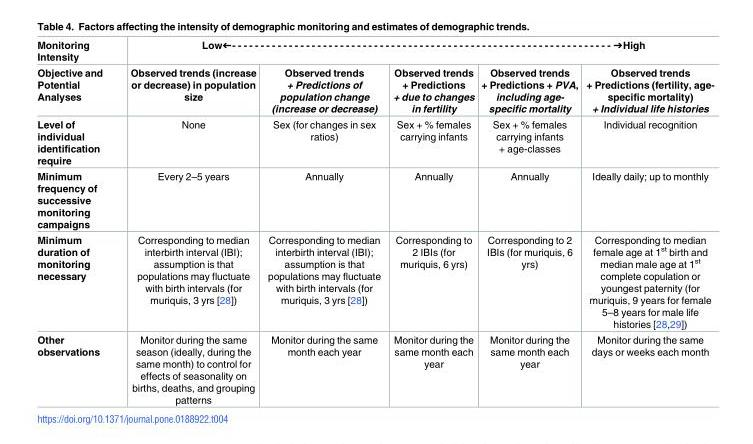table: (36, 37, 713, 404)
table column: (115, 37, 261, 404), (581, 37, 713, 404), (261, 37, 386, 404), (477, 37, 581, 404), (386, 37, 477, 404), (36, 37, 115, 404)
table column header: (36, 37, 713, 116)
table row: (36, 232, 713, 332), (36, 332, 713, 404), (36, 168, 713, 232), (36, 64, 713, 116), (36, 116, 713, 168), (36, 37, 713, 64)
table spanning cell: (115, 37, 713, 64), (36, 37, 115, 116)
